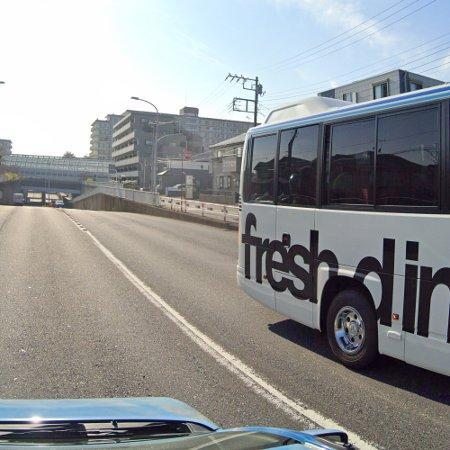buses: (240, 86, 450, 375)
